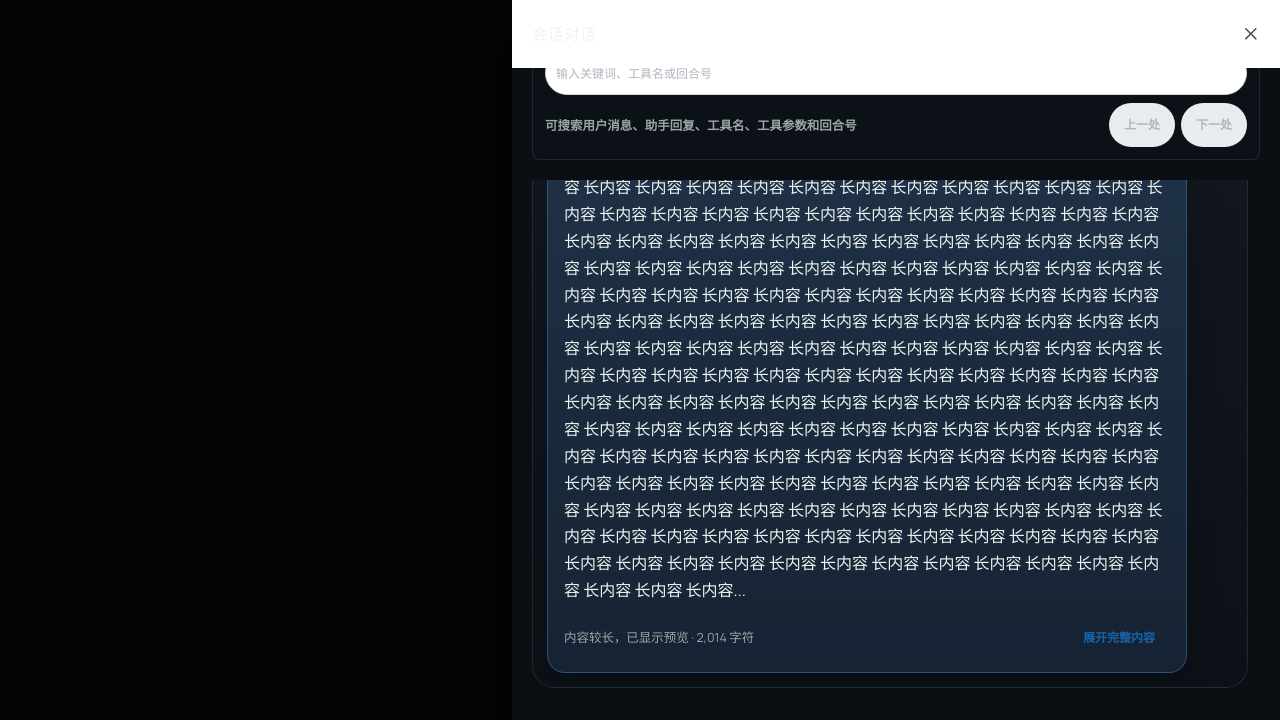
Scenario: ConversationDrawer › collapses very long message bodies before markdown rendering
(page scrolled)
expect the text "内容较长，已显示预览 · 2,014 字符" is shown: met, box [564,628,754,648]
Click the button "展开完整内容". click: (1119, 638)
box: [1068,616,1170,660]
(page scrolled)
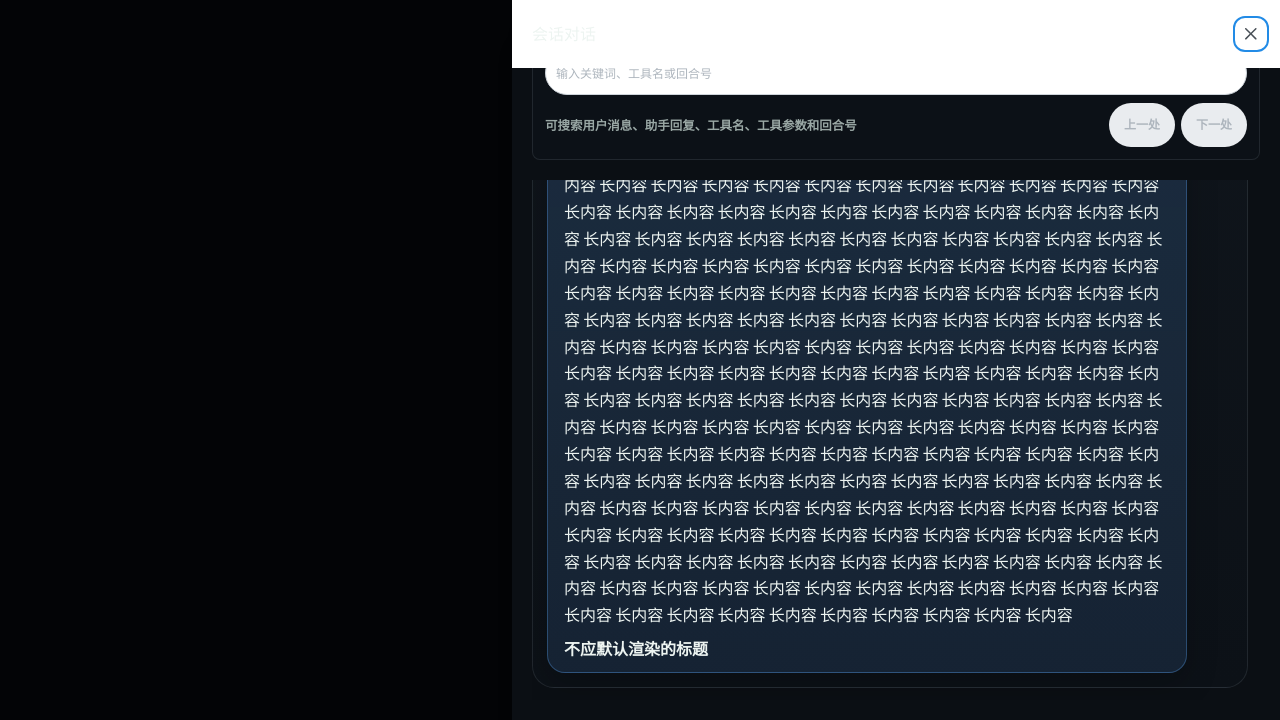
expect the heading "不应默认渲染的标题" is shown: met, box [564,638,708,660]
